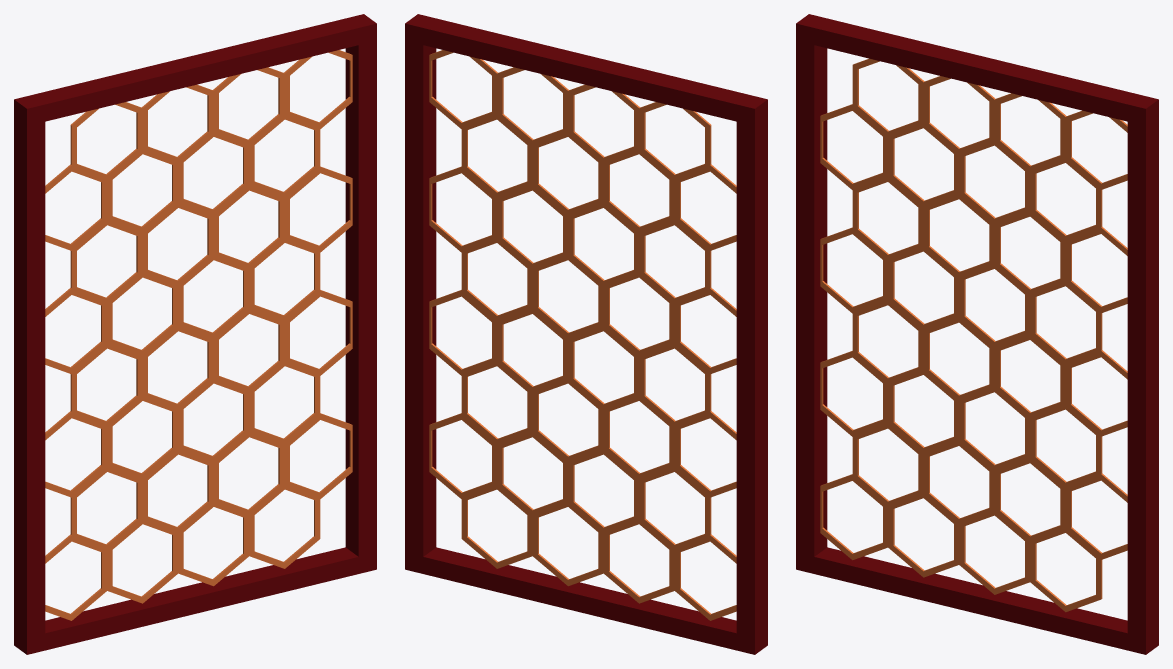
File: HoneyPlateFBX.fbx
3 views of the same model, side by side, from view 1: azimuth 30°, elevation 25°; view 2: azimuth 150°, elevation 25°; view 3: azimuth 330°, elevation 25° (orthographic).
Visible parts, largest first — view 1: Cylinder; view 2: Cylinder; view 3: Cylinder.
Part boxes in pixels (bbox=[...]): Cylinder: bbox=[14, 14, 376, 654]; Cylinder: bbox=[405, 14, 767, 654]; Cylinder: bbox=[796, 14, 1158, 654].
Size of the model in its own units: 106 by 159 by 6.86.
